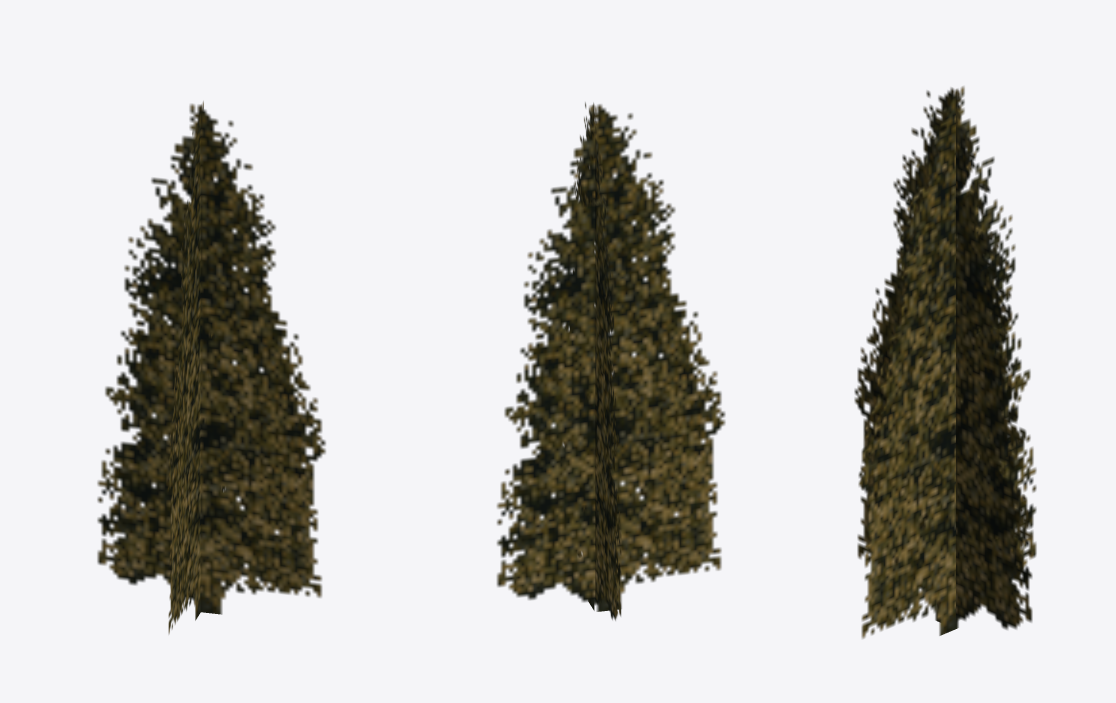
The model's file is tree059.glb.
3 views of the same model, side by side, from view 1: azimuth 30°, elevation 25°; view 2: azimuth 150°, elevation 25°; view 3: azimuth 270°, elevation 25° (orthographic). The views are drawn at different scales.
Visible parts, largest first — view 1: tree059; view 2: tree059; view 3: tree059.
Part boxes in pixels (x1=…): tree059: x1=97, y1=101, x2=325, y2=633; tree059: x1=497, y1=102, x2=725, y2=620; tree059: x1=854, y1=86, x2=1036, y2=638.
Size of the model in its own units: 2.35 by 5.01 by 2.35.
1 material, 1 textured.
